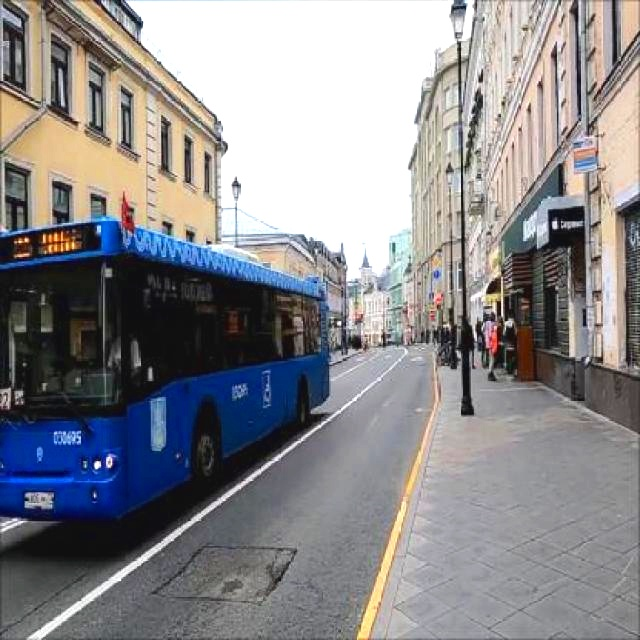bus: (0, 208, 383, 546)
